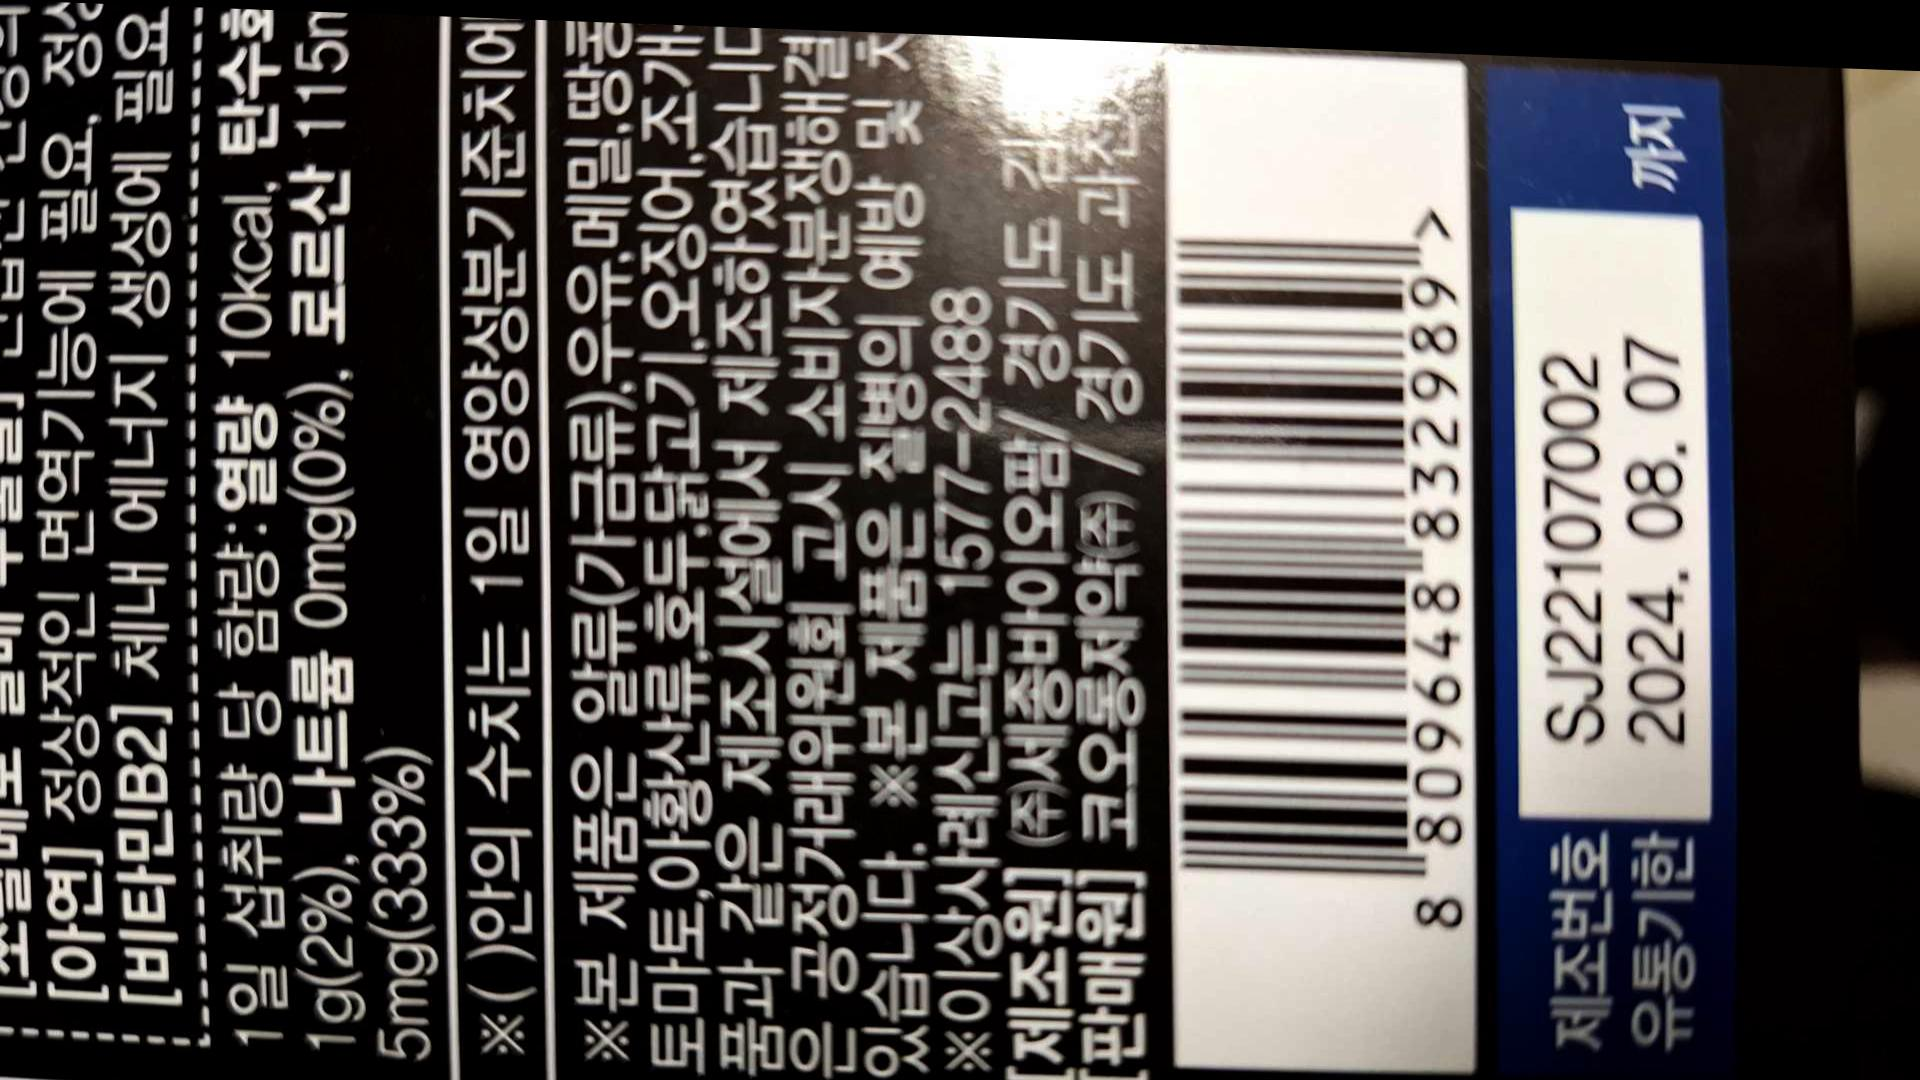chicken-6500-2024-8-27: (1159, 178, 1489, 939)
